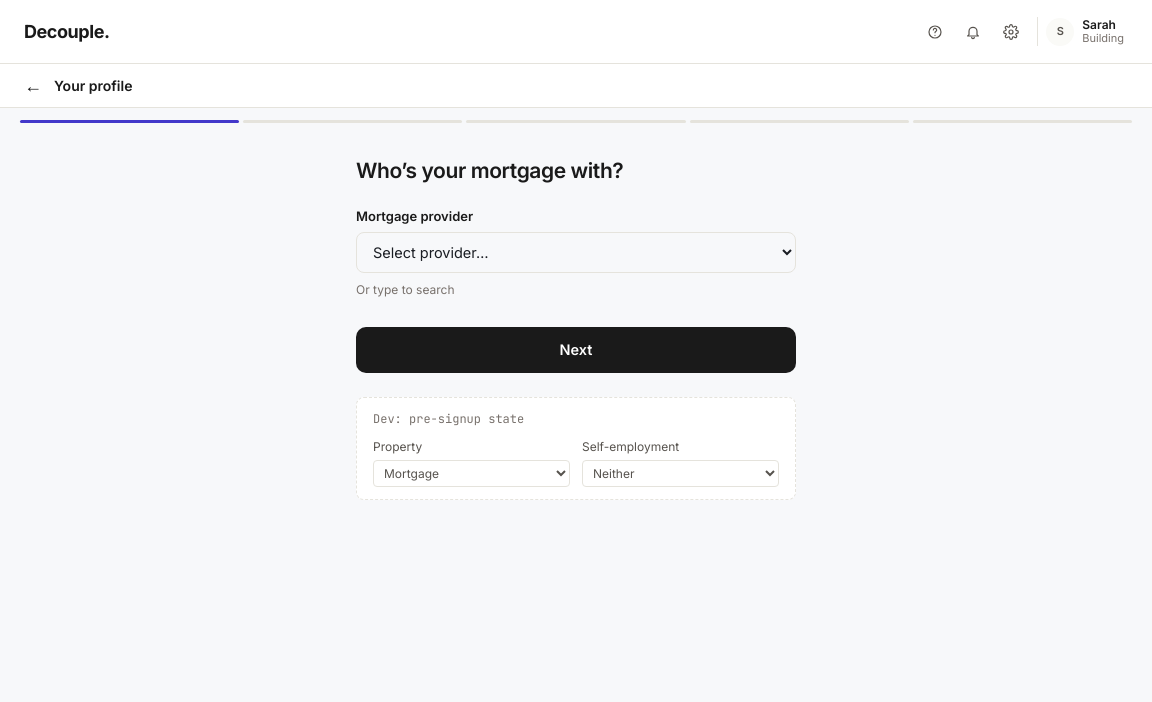
it: /dev/proto/moment-2-profiling page › renders P6 other-accounts heads-up as final step (AC-4)
The width and height of the screenshot is (1152, 702).
Click the button "Next": (576, 350) x1=356 y1=327 x2=796 y2=373
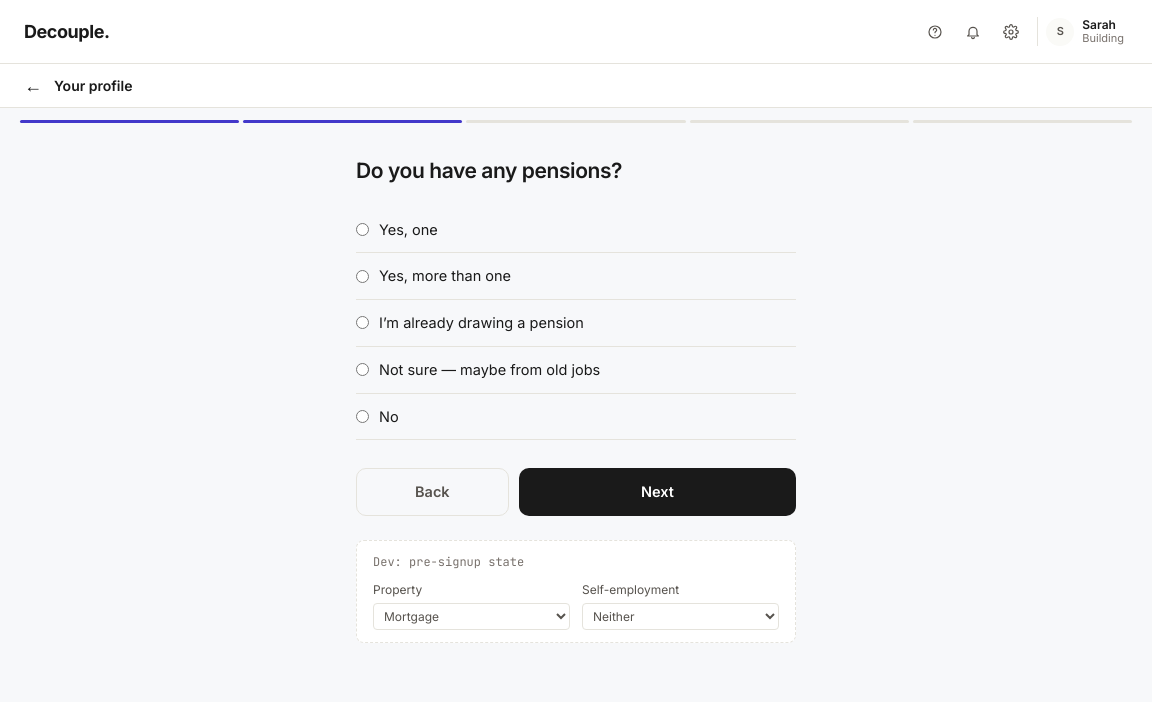
Click the button "Next": (657, 492) x1=519 y1=468 x2=796 y2=516
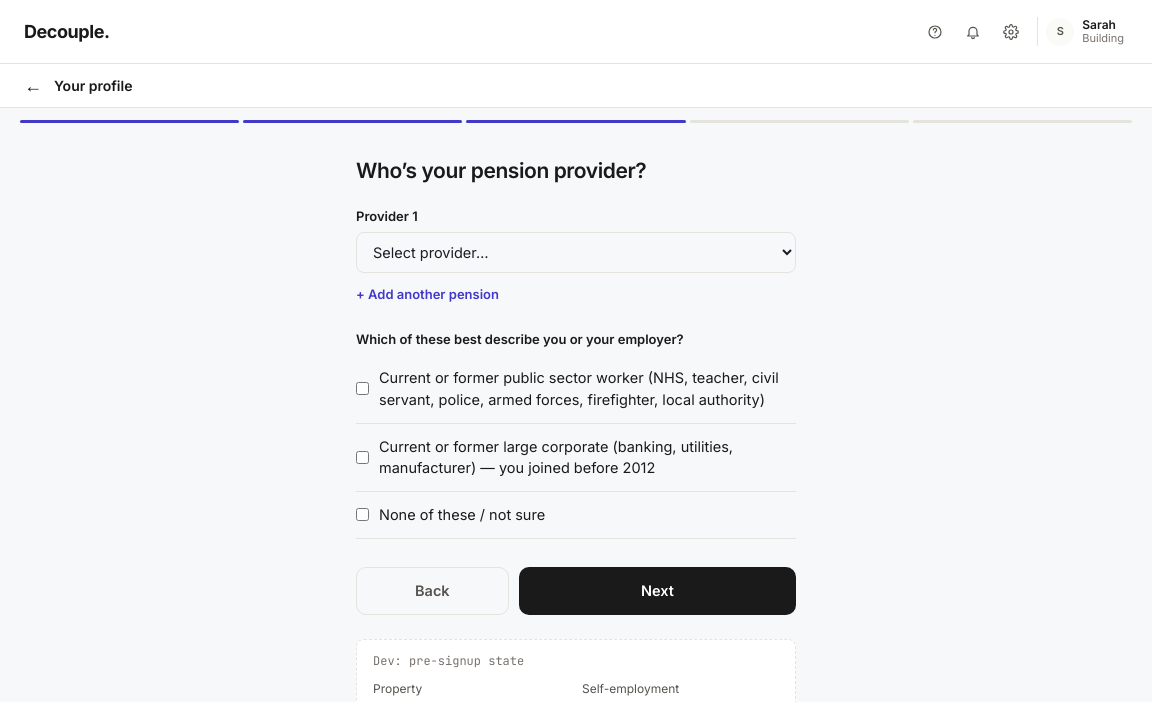
Click the button "Next": (657, 591) x1=519 y1=567 x2=796 y2=615
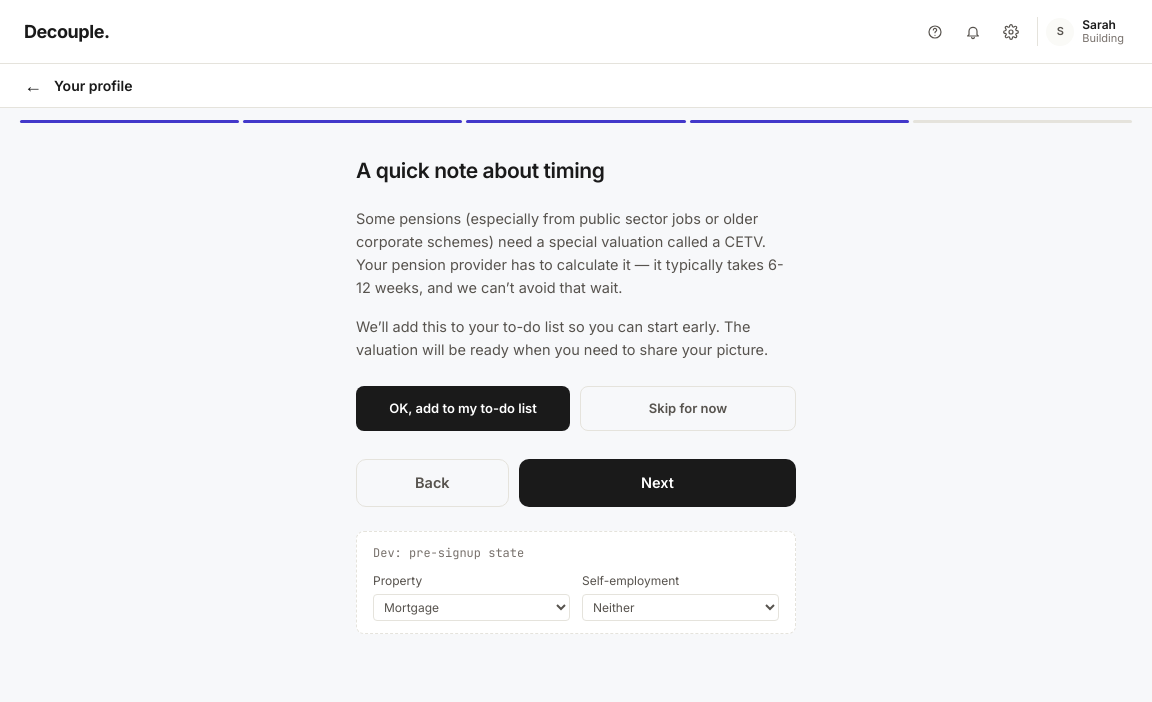
Click the button "Next": (657, 483) x1=519 y1=459 x2=796 y2=507
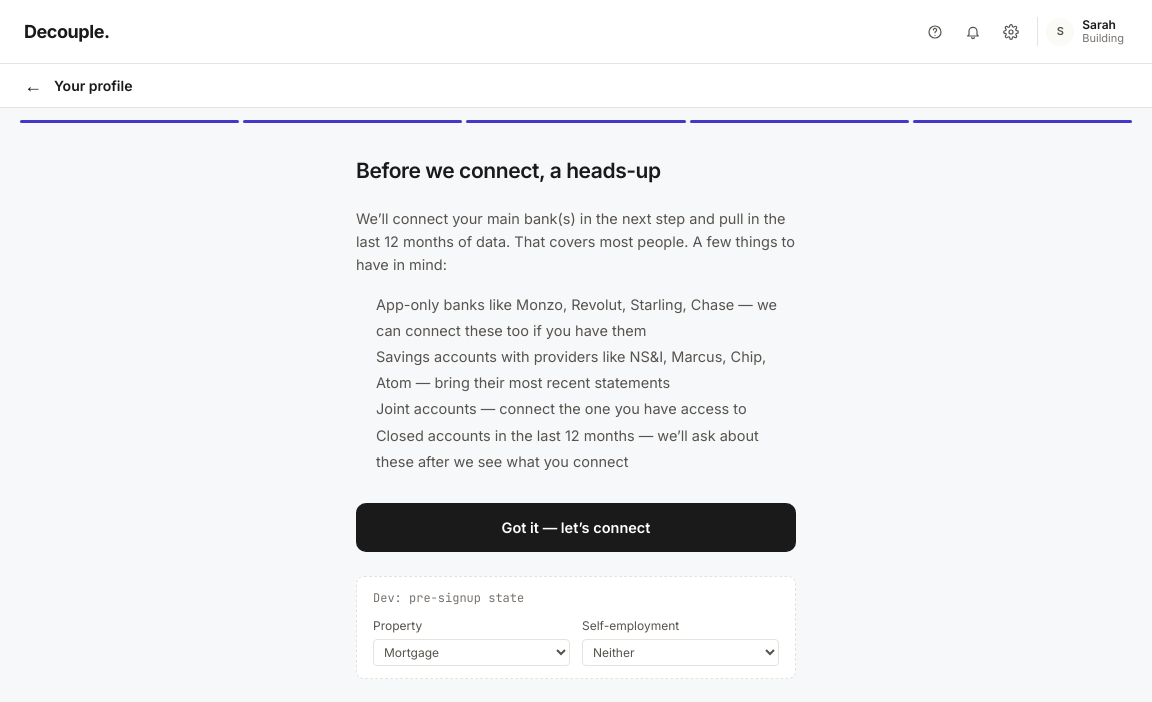
Check: the heading "Before we connect, a heads-up" is shown, box x1=356 y1=158 x2=661 y2=183
Check: the list item "App-only banks" is shown, box x1=376 y1=296 x2=777 y2=339
